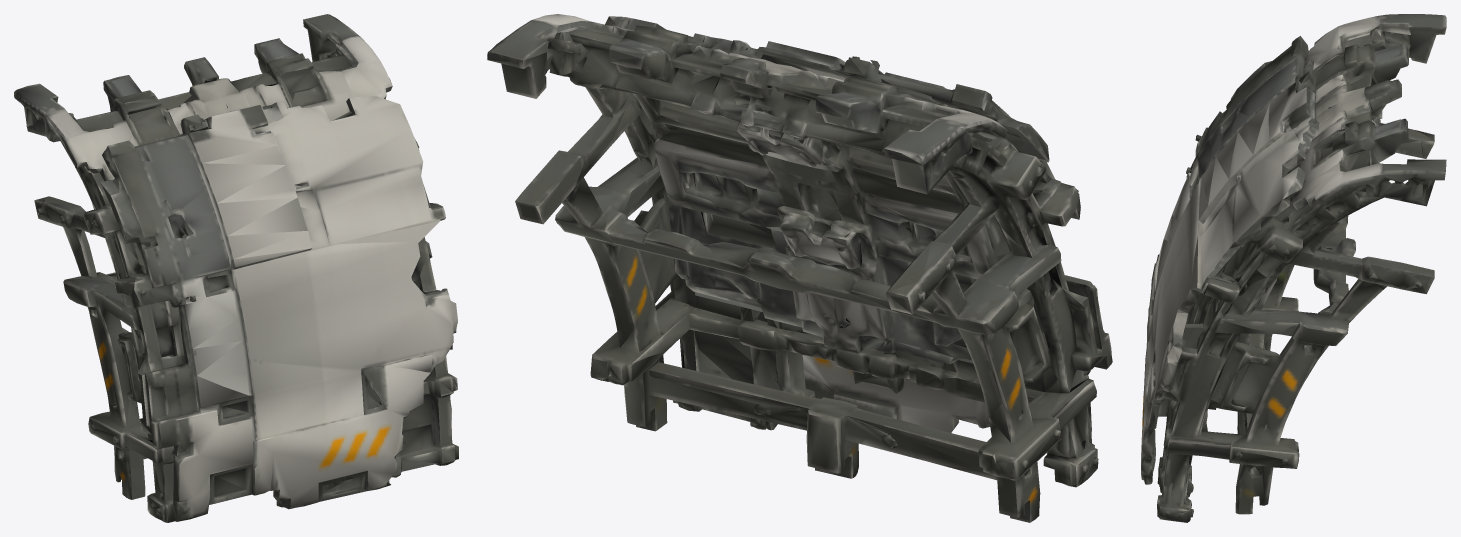
File: 06_hull_large_ribbed.fbx
3 renders of one model, left to right at view 1: azimuth 30°, elevation 25°; view 2: azimuth 150°, elevation 25°; view 3: azimuth 270°, elevation 25°, orthographic. The views are drawn at different scales.
Parts seen in each view (by area): view 1: 06_hull_large_ribbed; view 2: 06_hull_large_ribbed; view 3: 06_hull_large_ribbed.
Part boxes in pixels (box(x1,y1,x2,y2)): 06_hull_large_ribbed: box(14, 14, 458, 522); 06_hull_large_ribbed: box(487, 14, 1112, 522); 06_hull_large_ribbed: box(1141, 14, 1446, 522).
Size of the model in its own units: 5.66 by 6 by 4.49.
1 material, 1 textured.
